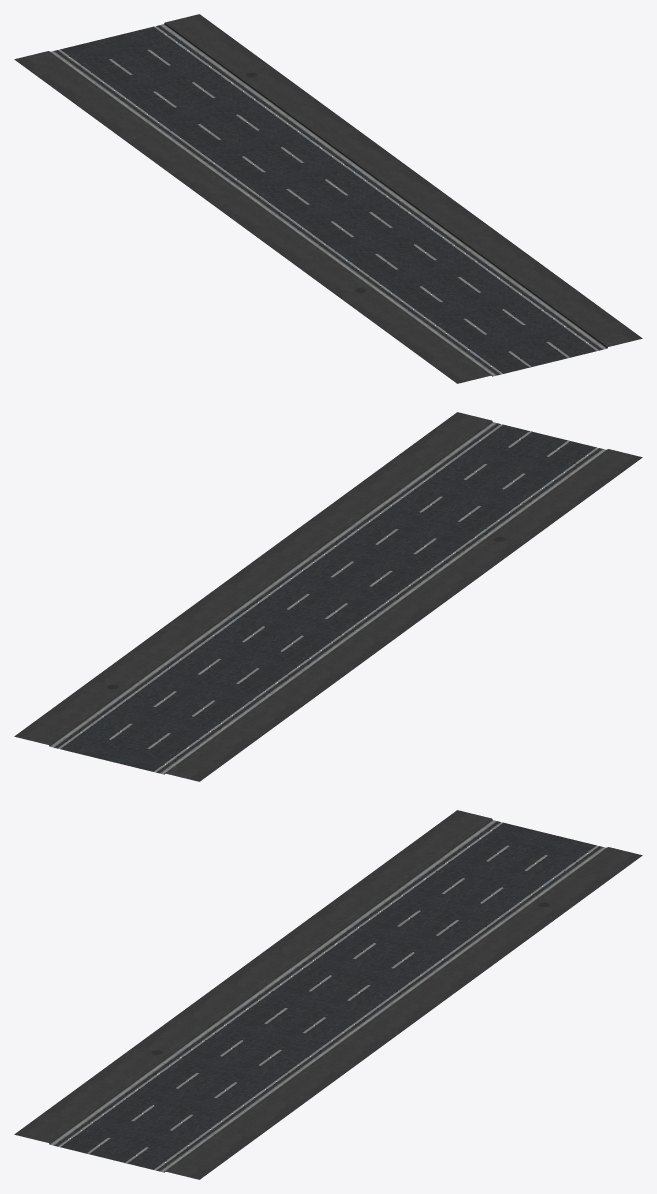
Rendered from city_road_3ways.fbx.
3 views of the same model, one above another, from view 1: azimuth 30°, elevation 25°; view 2: azimuth 150°, elevation 25°; view 3: azimuth 330°, elevation 25° (orthographic).
Parts seen in each view (by area): view 1: obj0; view 2: obj0; view 3: obj0.
Part boxes in pixels (<box>): obj0: <box>14,14,642,383</box>; obj0: <box>14,412,642,781</box>; obj0: <box>14,810,642,1179</box>.
Bounding box in the file's own units: 36.83 × 0.254 × 152.
